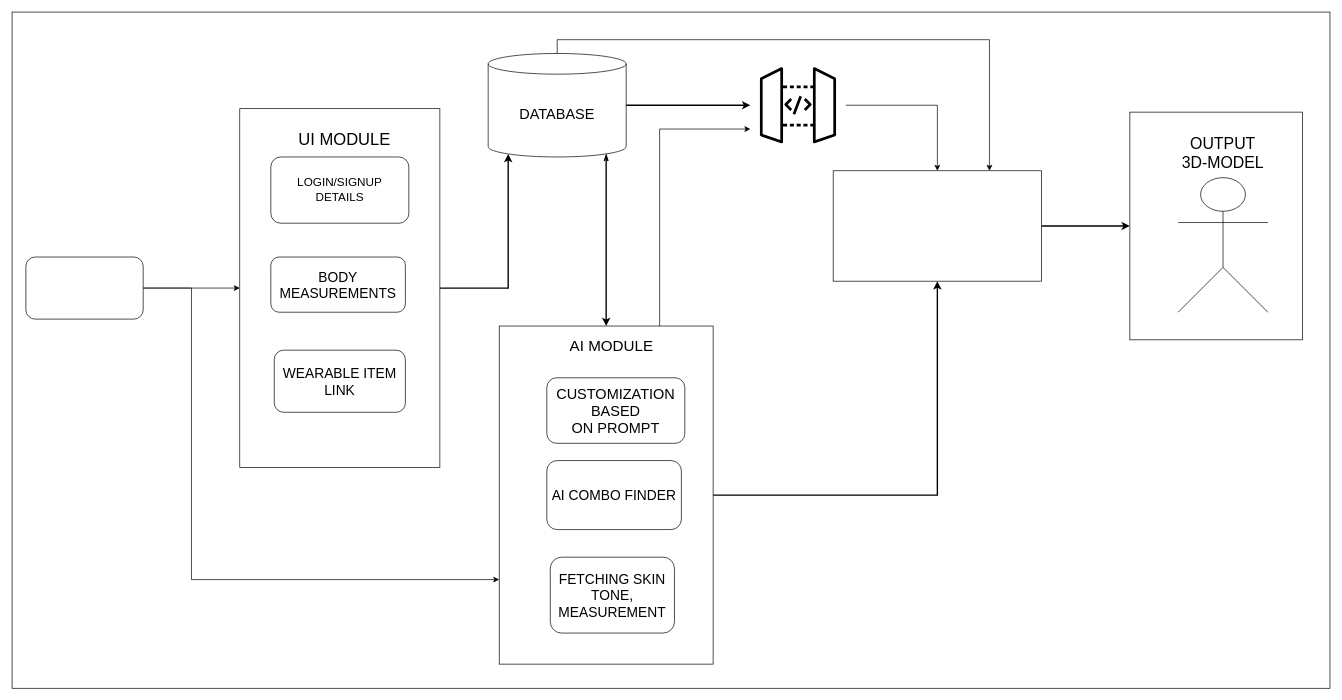
Image size: 1342x700. Some labels were removed from this diagram. Here are the shapes that lost their labels. From the top down, the box of each, then its label:
(832, 170, 1042, 281): 3D MODELLING USING MEASUREMENTS AND ITEM LINK
(25, 256, 143, 319): USER
